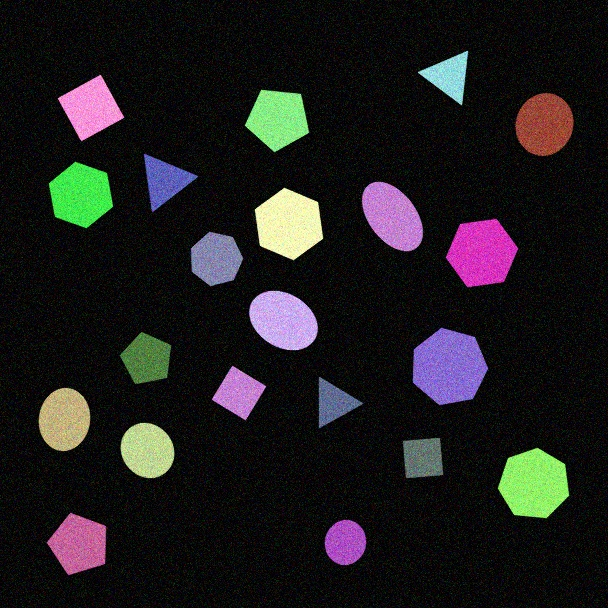Circulo: (515, 92, 574, 157), (120, 422, 175, 479), (324, 519, 367, 566)
Elipse: (361, 181, 424, 252), (248, 290, 319, 351), (38, 387, 91, 452)
Heptagono: (412, 327, 489, 406), (497, 447, 570, 519), (190, 231, 244, 287)
Hexagono: (445, 218, 519, 288), (254, 187, 324, 261), (48, 161, 114, 229)
Pentagono: (244, 89, 310, 153), (46, 512, 107, 576), (119, 331, 172, 385)
Quadrado: (57, 74, 125, 142), (211, 365, 267, 421), (402, 437, 444, 479)
Triangulo: (143, 153, 199, 213), (418, 50, 469, 106), (318, 376, 364, 429)
